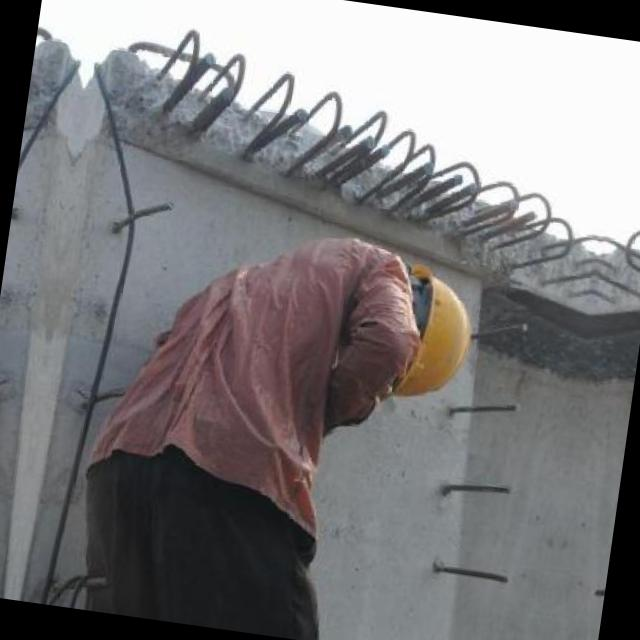helmet: (344, 251, 494, 411)
